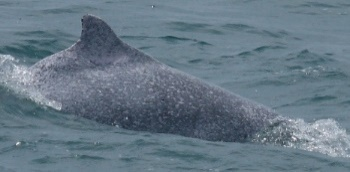fin: (10, 11, 305, 150)
